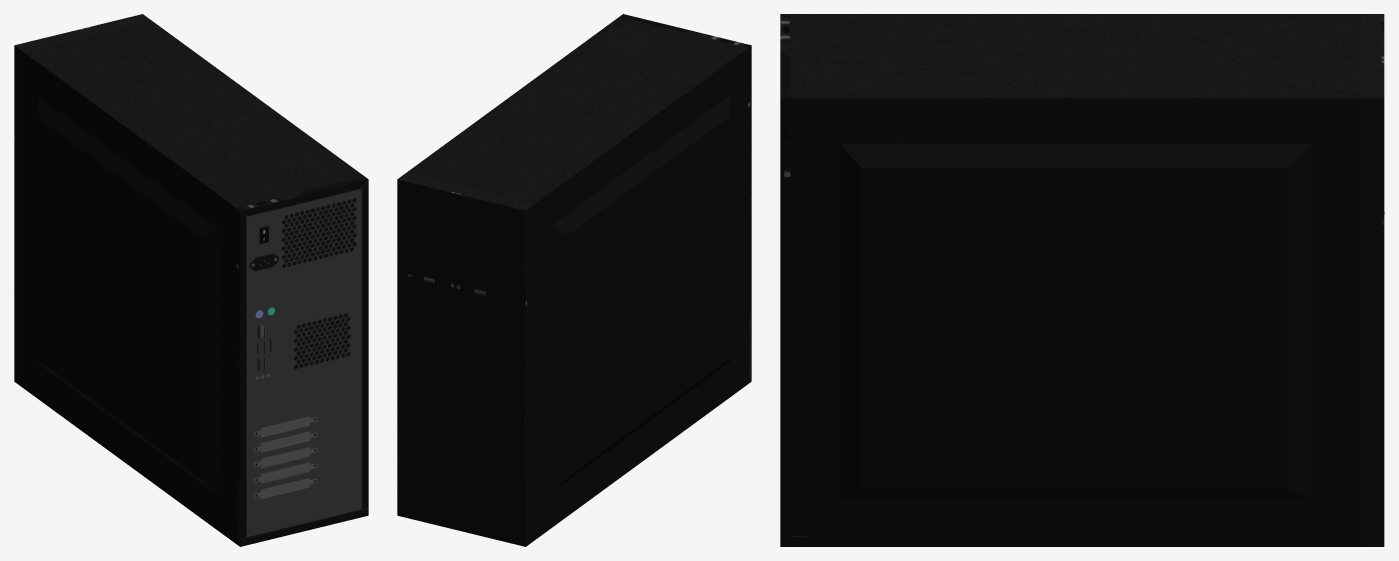
3 renders of one model, left to right at view 1: azimuth 30°, elevation 25°; view 2: azimuth 150°, elevation 25°; view 3: azimuth 270°, elevation 25°, orthographic. The views are drawn at different scales.
Visible parts, largest first — view 1: PC; view 2: PC; view 3: PC.
Part boxes in pixels (x1,y1,x2,y2): PC: (14, 14, 368, 546); PC: (397, 14, 751, 546); PC: (780, 14, 1384, 546).
Bounding box in the file's own units: 16.05 × 34.68 × 42.28.
